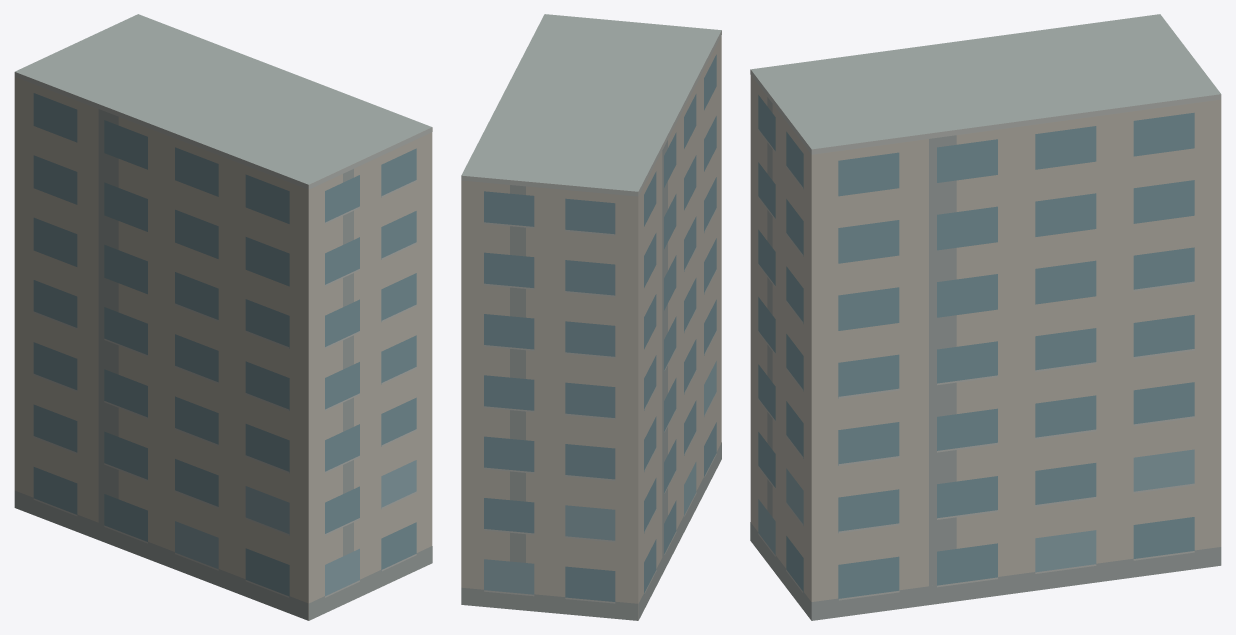
The model's file is survey-upis-32569790.glb.
3 renders of one model, left to right at view 1: azimuth 30°, elevation 25°; view 2: azimuth 150°, elevation 25°; view 3: azimuth 270°, elevation 25°, orthographic. The views are drawn at different scales.
Parts seen in each view (by area): view 1: survey-upis-32569790.tmp; view 2: survey-upis-32569790.tmp; view 3: survey-upis-32569790.tmp.
Part boxes in pixels (x1,y1,x2,y2): survey-upis-32569790.tmp: [14, 14, 432, 620]; survey-upis-32569790.tmp: [461, 14, 721, 620]; survey-upis-32569790.tmp: [750, 14, 1221, 620].
Bounding box in the file's own units: 13.31 × 21.6 × 19.56.
